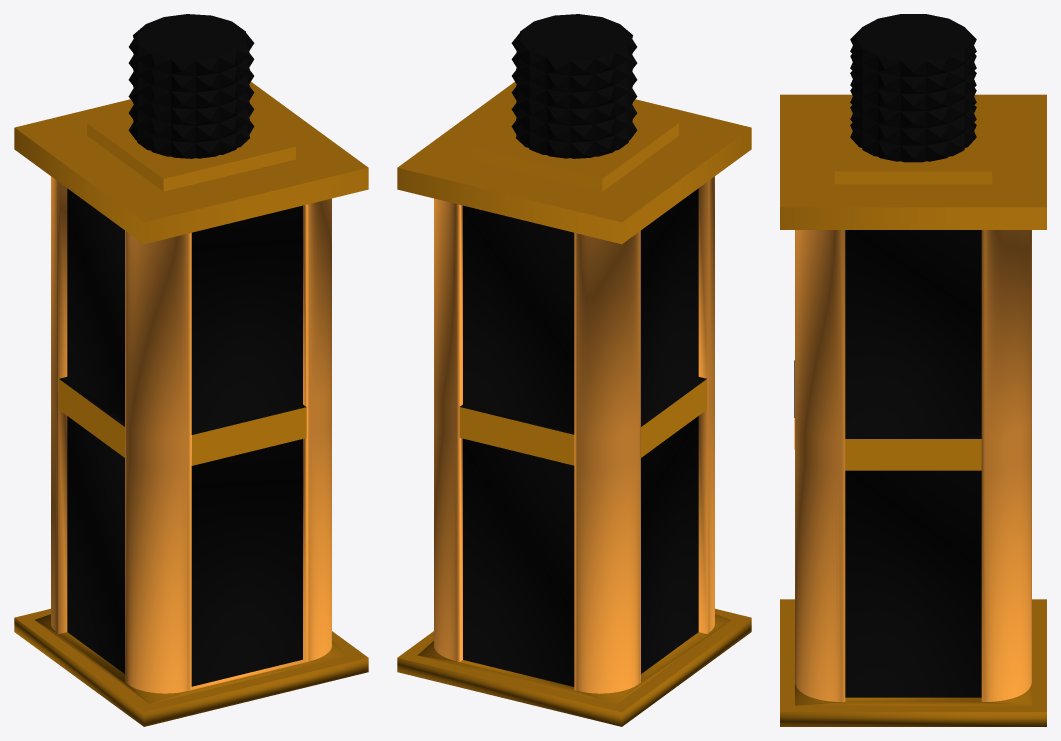
Rendered from perfume2.gltf.
3 renders of one model, left to right at view 1: azimuth 30°, elevation 25°; view 2: azimuth 150°, elevation 25°; view 3: azimuth 270°, elevation 25°, orthographic. The views are drawn at different scales.
Visible parts, largest first — view 1: Cube, Cylinder; view 2: Cube, Cylinder; view 3: Cube, Cylinder.
Boxes of the visible parts, <box> form: Cube: <box>14,82,368,726</box>; Cylinder: <box>128,14,254,158</box>; Cube: <box>397,82,751,726</box>; Cylinder: <box>511,14,637,158</box>; Cube: <box>780,94,1046,726</box>; Cylinder: <box>850,14,976,162</box>.
Bounding box in the file's own units: 2.25 × 5.89 × 2.25.
